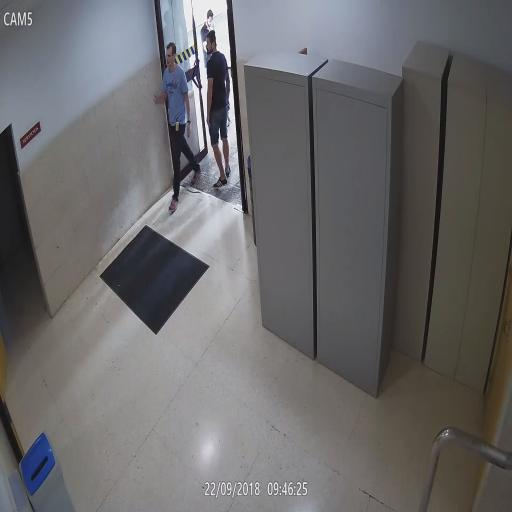Handgun: (225, 100, 232, 122)
